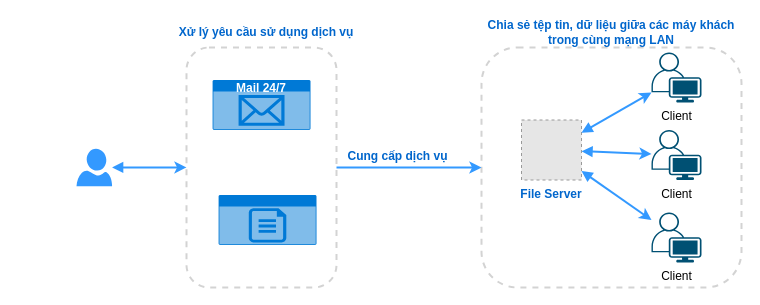
Some shapes in this 760 by 305 pixel diagram are drawn without their labels. Grey dashed boxes stand in for pictures. Each missing label, with the centre of its shape:
Ticket Support: (267,219)
Đối tượng sử dụng dịch vụ: (94,167)
